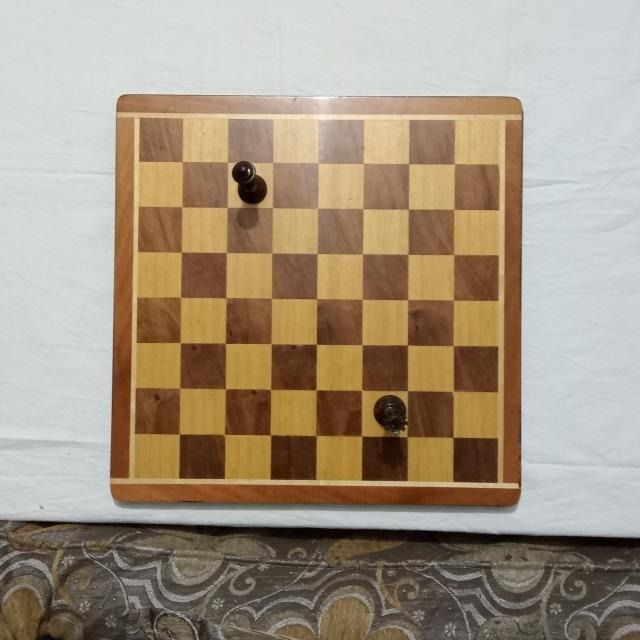black-king: (232, 158, 268, 205)
black-queen: (372, 394, 410, 434)
